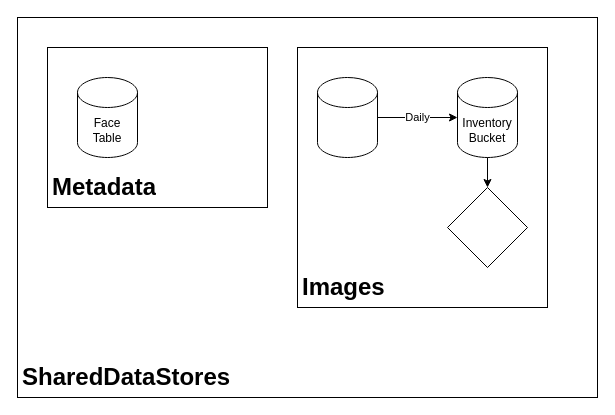
This 615x415 diagram has some shape labels left out. The centre of each missing label's shape, as x and y in pixels:
"Image Bucket" belongs at (x=347, y=117).
"Inventory Created" belongs at (x=487, y=227).
